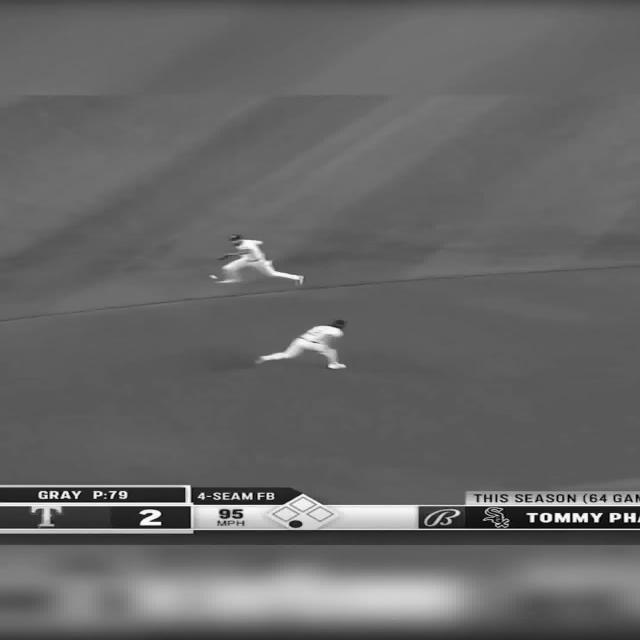baseball: (209, 274, 217, 279)
baseball_glove: (215, 253, 228, 260)
shoe: (215, 278, 239, 284), (326, 362, 346, 369), (294, 275, 304, 285), (254, 356, 266, 364)
